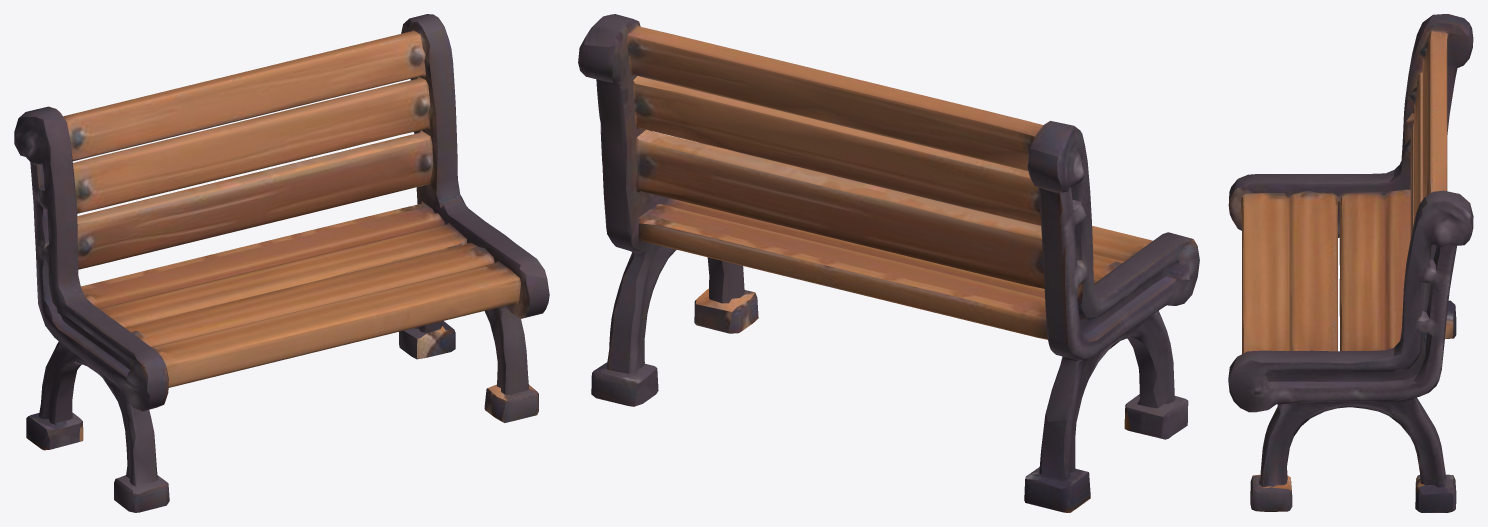
The model's file is bench.glb.
The picture shows the model from 3 angles, left to right: view 1: azimuth 30°, elevation 25°; view 2: azimuth 150°, elevation 25°; view 3: azimuth 270°, elevation 25°; orthographic projection. The views are drawn at different scales.
Parts seen in each view (by area): view 1: bench_s11; view 2: bench_s11; view 3: bench_s11.
Boxes of the visible parts, left/top/right/bottom form: bench_s11: left=14, top=14, right=549, bottom=512; bench_s11: left=578, top=14, right=1199, bottom=512; bench_s11: left=1228, top=14, right=1473, bottom=512.
Bounding box in the file's own units: 1 × 0.7394 × 0.5281.
1 material, 1 textured.
